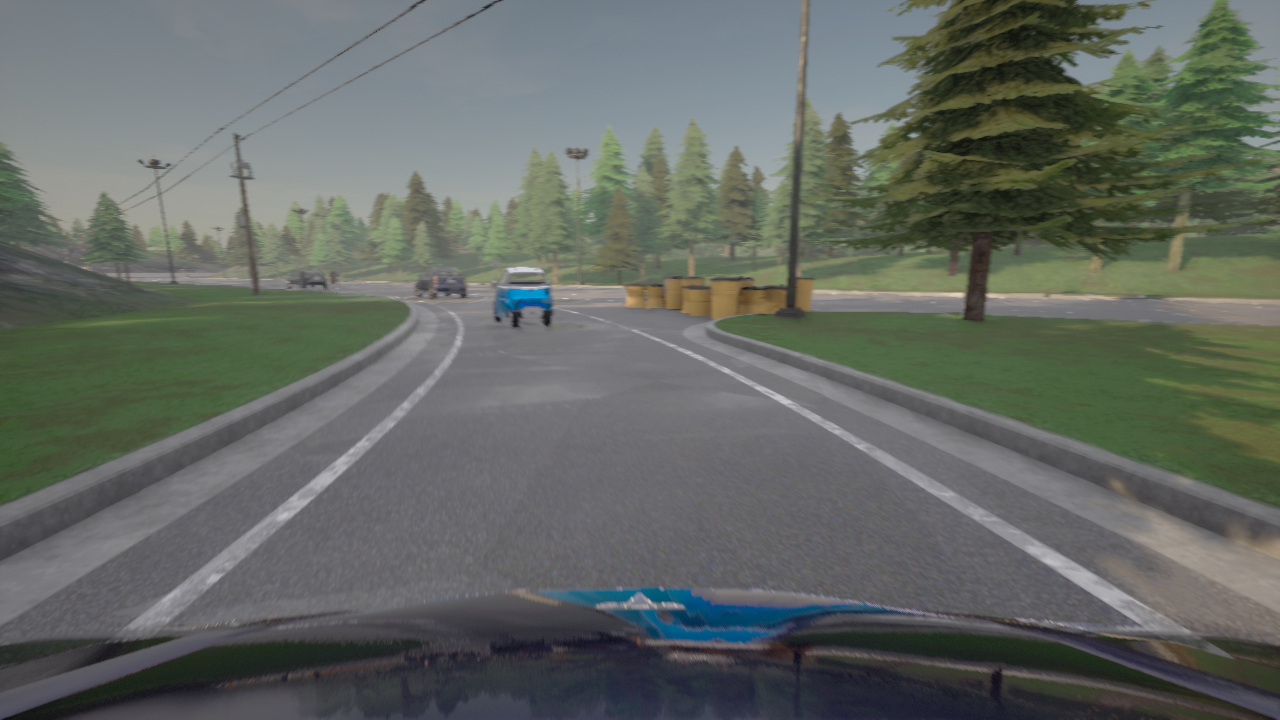cyclist: (0, 588, 1279, 719), (491, 266, 552, 327), (415, 266, 467, 298), (286, 270, 328, 288), (329, 274, 340, 284)
